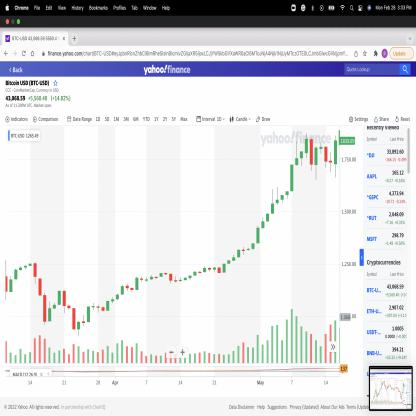Bearish 3 Black Crows: (33, 260, 47, 327)
